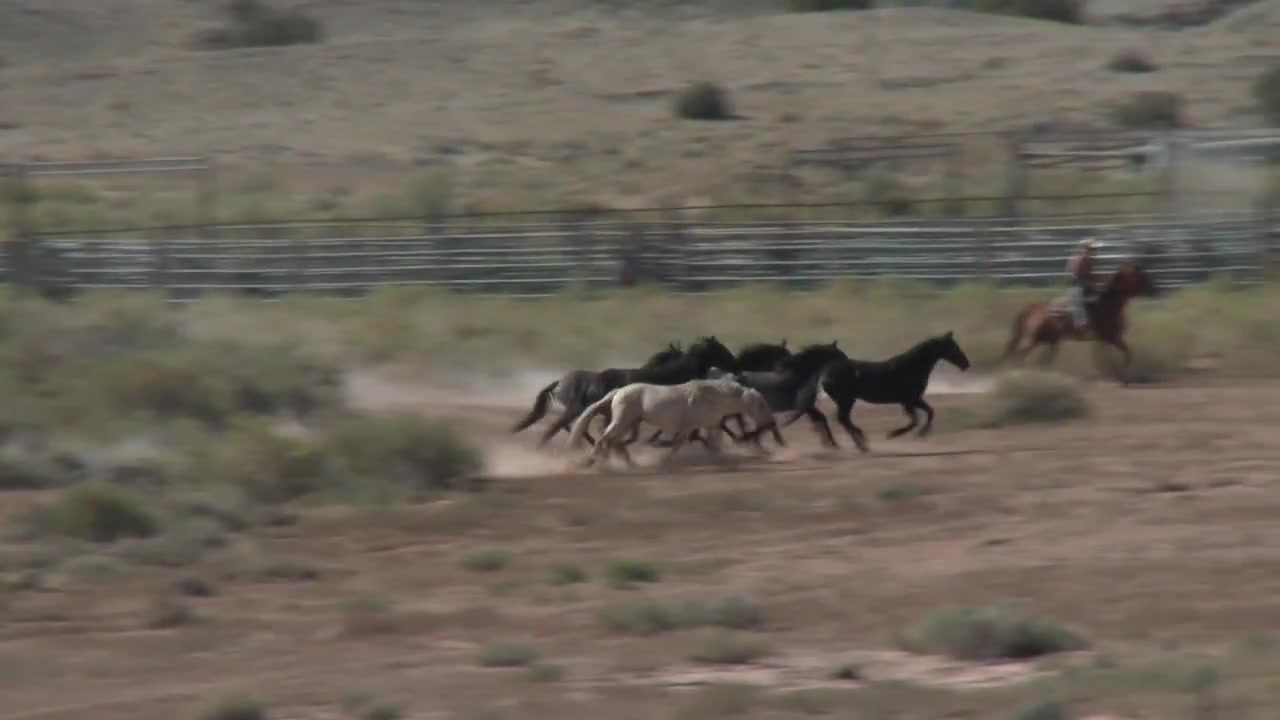horse: (996, 262, 1162, 385), (563, 383, 779, 477), (820, 331, 977, 449), (516, 341, 690, 433), (709, 339, 853, 450), (714, 332, 800, 439), (681, 332, 744, 390)
